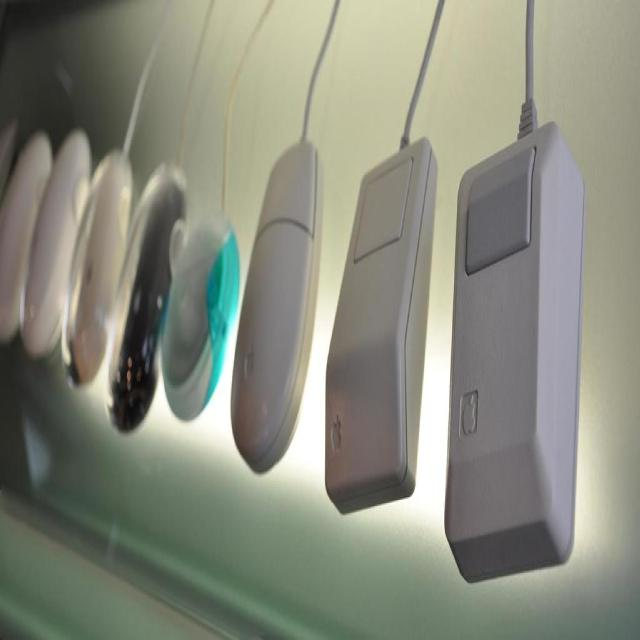Computer-mouse: (442, 118, 587, 582), (324, 132, 440, 518), (230, 138, 327, 476), (102, 154, 190, 438), (60, 143, 135, 394), (18, 122, 95, 364), (159, 199, 240, 422), (0, 128, 52, 348)
